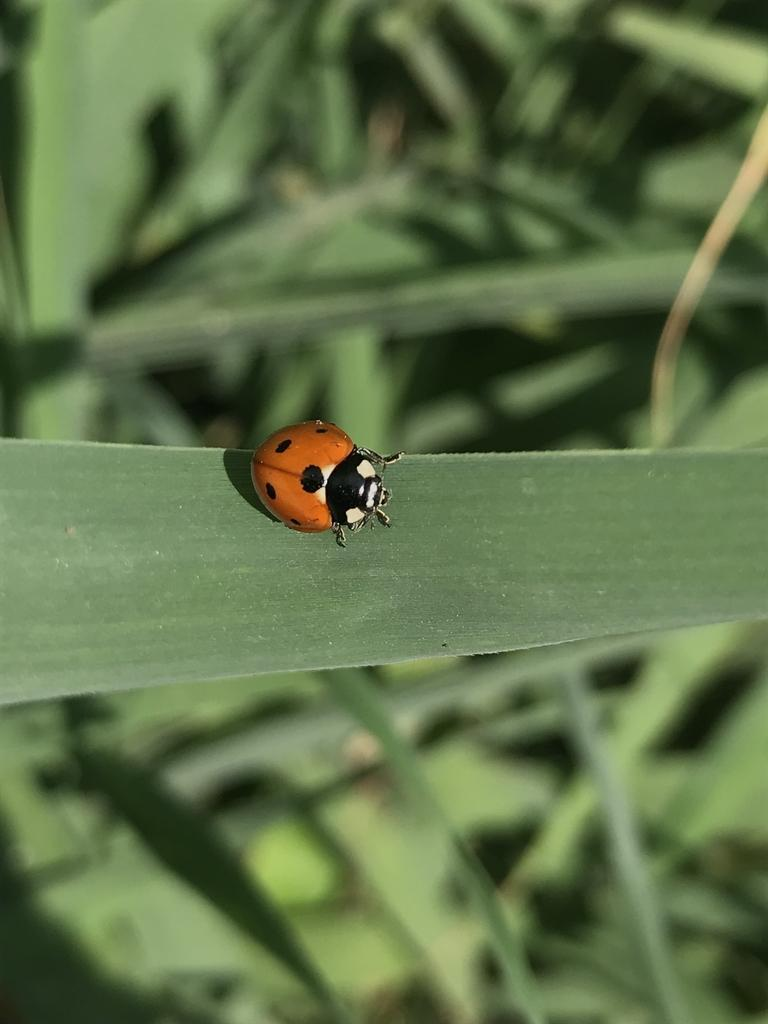ladybug: (246, 416, 414, 554)
